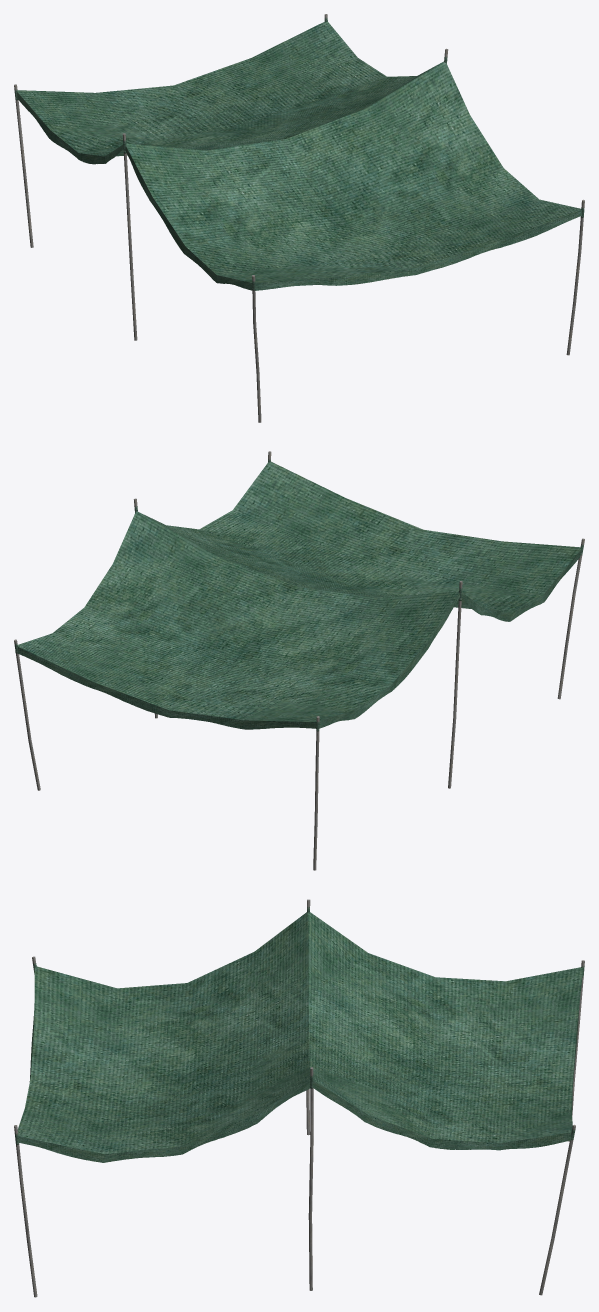
The model's file is poi_nboo_tent_med_l0.fbx.
3 renders of one model, top to bottom at view 1: azimuth 30°, elevation 25°; view 2: azimuth 150°, elevation 25°; view 3: azimuth 270°, elevation 25°, orthographic. The views are drawn at different scales.
Visible parts, largest first — view 1: mesh_node; view 2: mesh_node; view 3: mesh_node.
Boxes of the visible parts, box(x1,y1,x2,y2) form: mesh_node: box(14, 14, 584, 422); mesh_node: box(14, 451, 584, 870); mesh_node: box(14, 899, 584, 1297).
Size of the model in its own units: 6.55 by 4.08 by 9.03.
